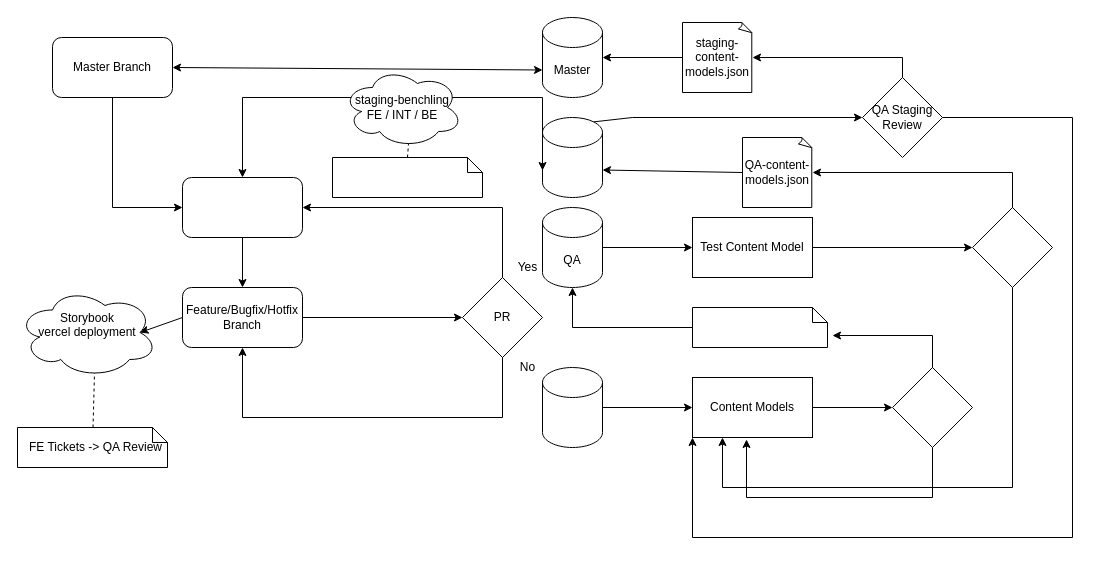
This 1098x563 diagram has some shape labels left out. Each missing label, with the box of its shape:
Code/Review: (892, 366, 972, 448)
Dev: (542, 366, 602, 448)
FE/INT/BE Tickets -> QA Staging: (332, 156, 482, 198)
Generate Migration File: (692, 306, 828, 348)
QA Review: (972, 206, 1052, 288)
Staging: (542, 116, 602, 198)
Staging Branch: (182, 176, 302, 238)
